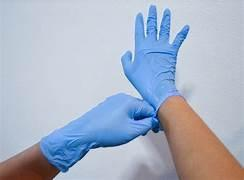Glove: (40, 93, 154, 171), (121, 5, 188, 111)
